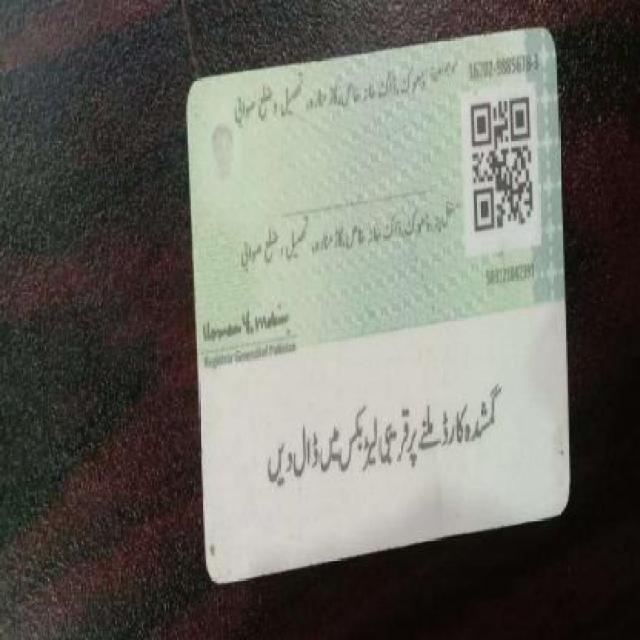Back: (180, 29, 574, 556)
